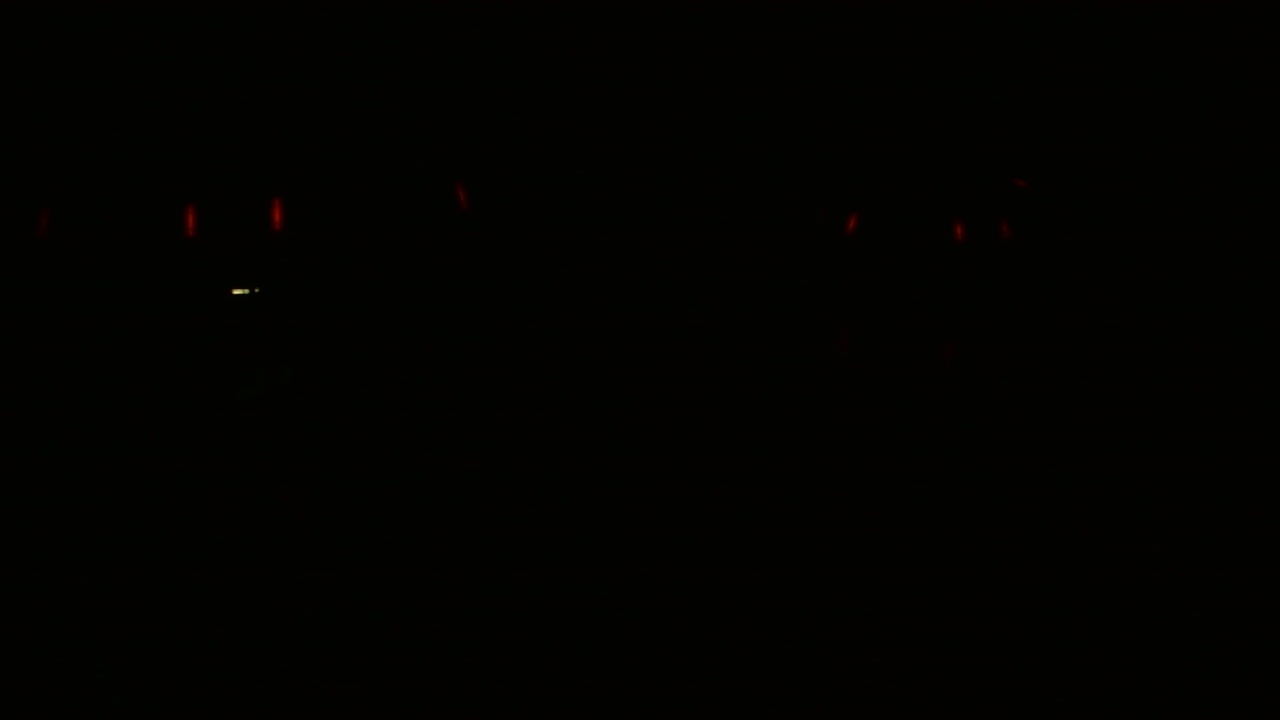pair1: (176, 194, 289, 242), (955, 219, 1008, 241)
